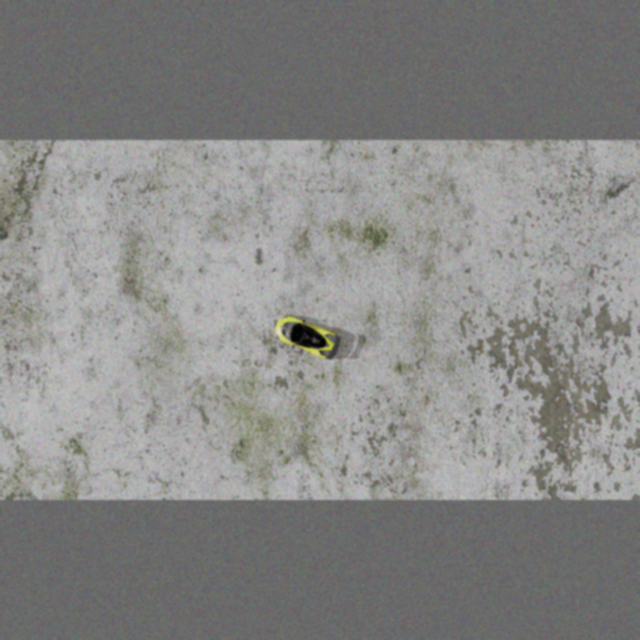car: (270, 309, 344, 363)
